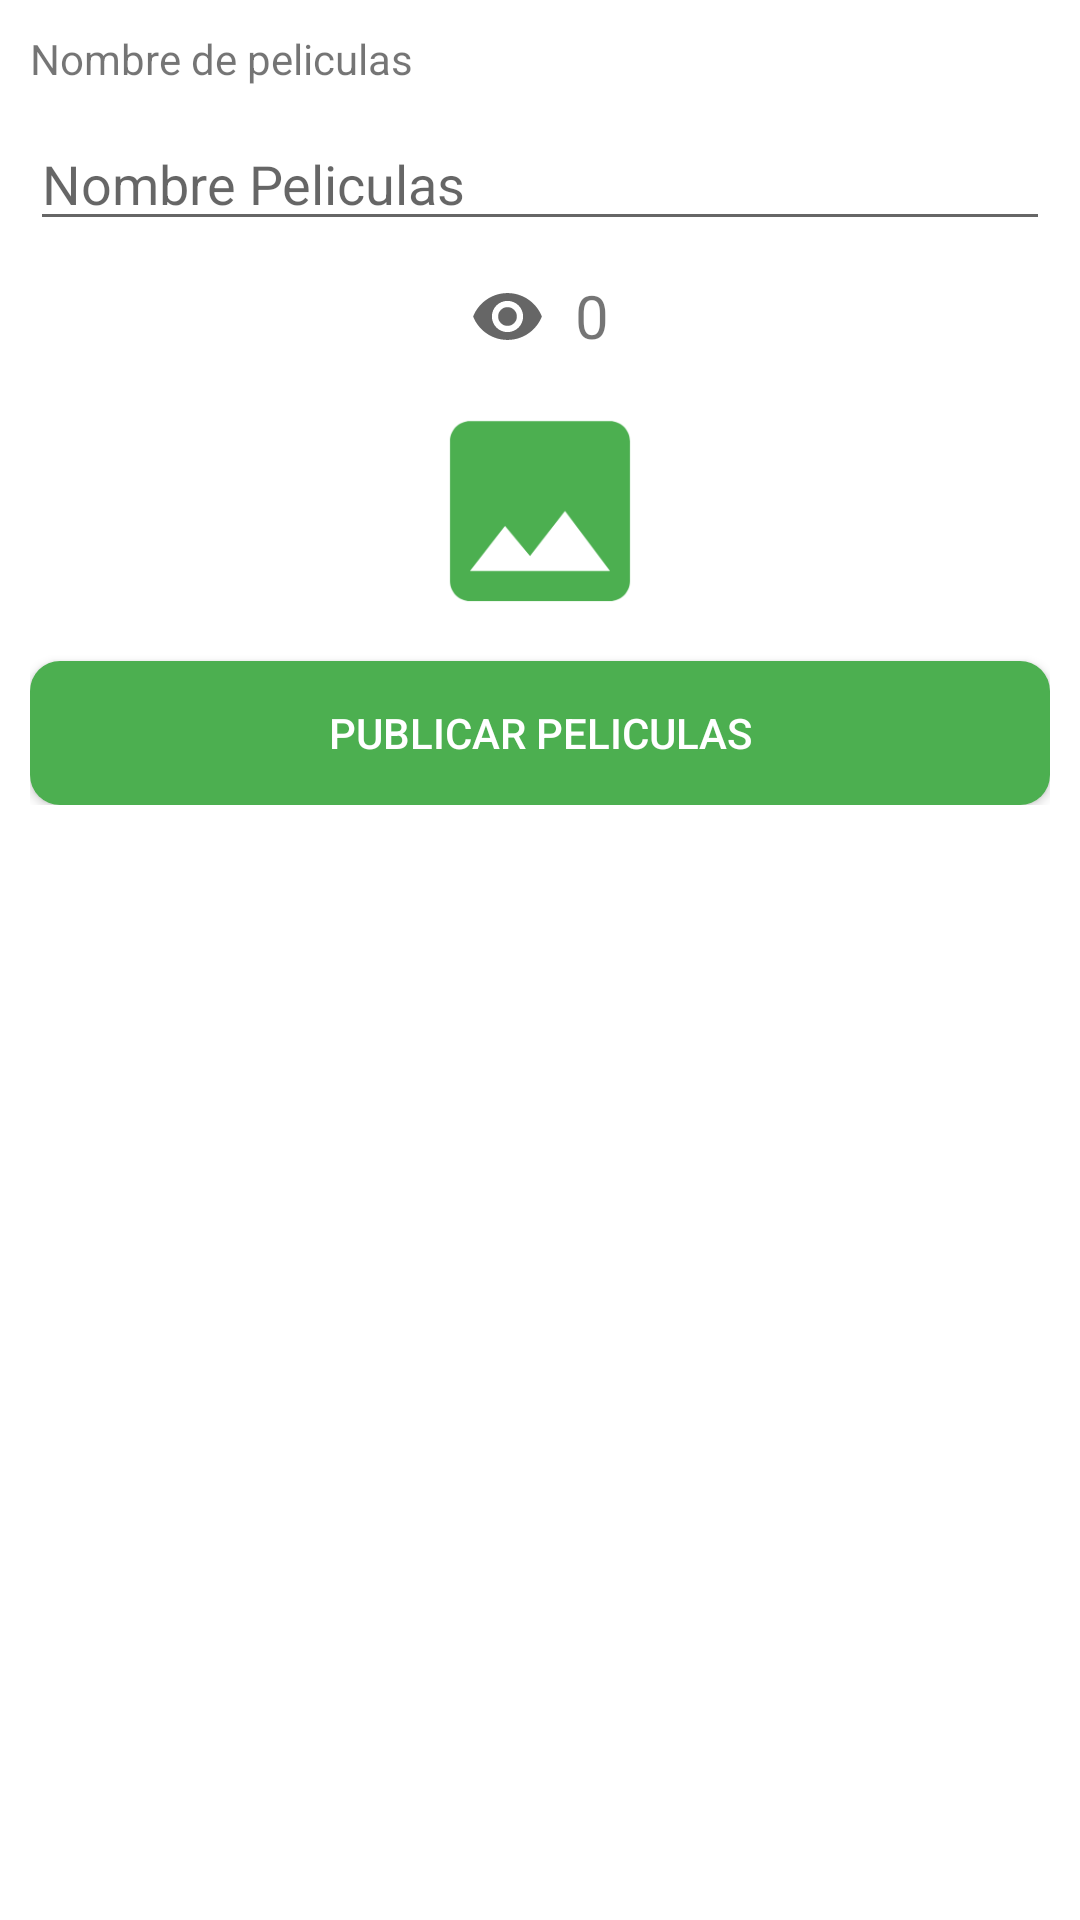

Icon click points for this 1080 × 1920 phone screenshot, format (x,y):
vista: (507,316)
